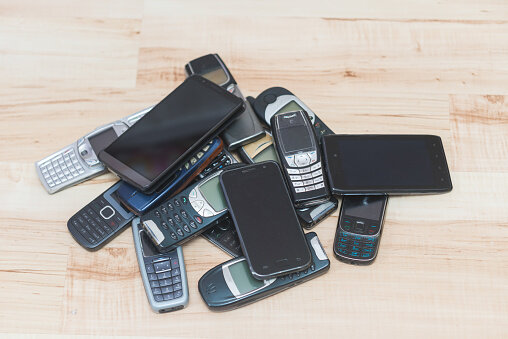phones: (91, 68, 245, 191), (316, 124, 459, 209), (218, 163, 318, 282), (266, 110, 335, 203)
